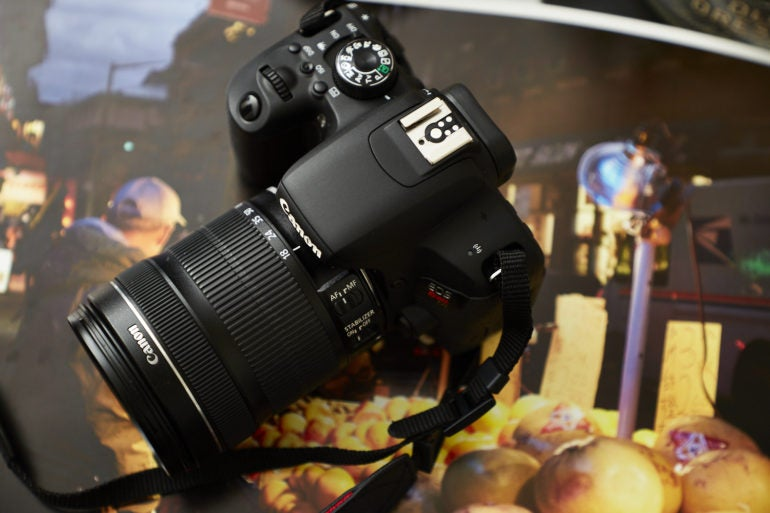camera: (82, 11, 543, 473)
